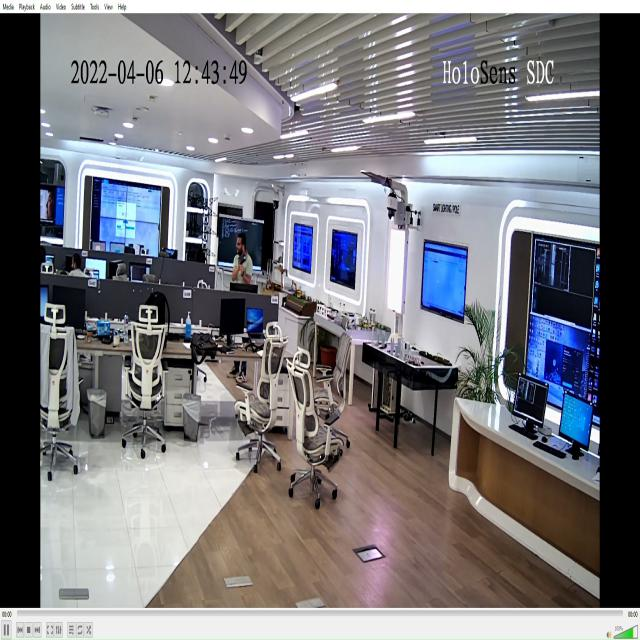long weapon: (236, 251, 248, 276)
